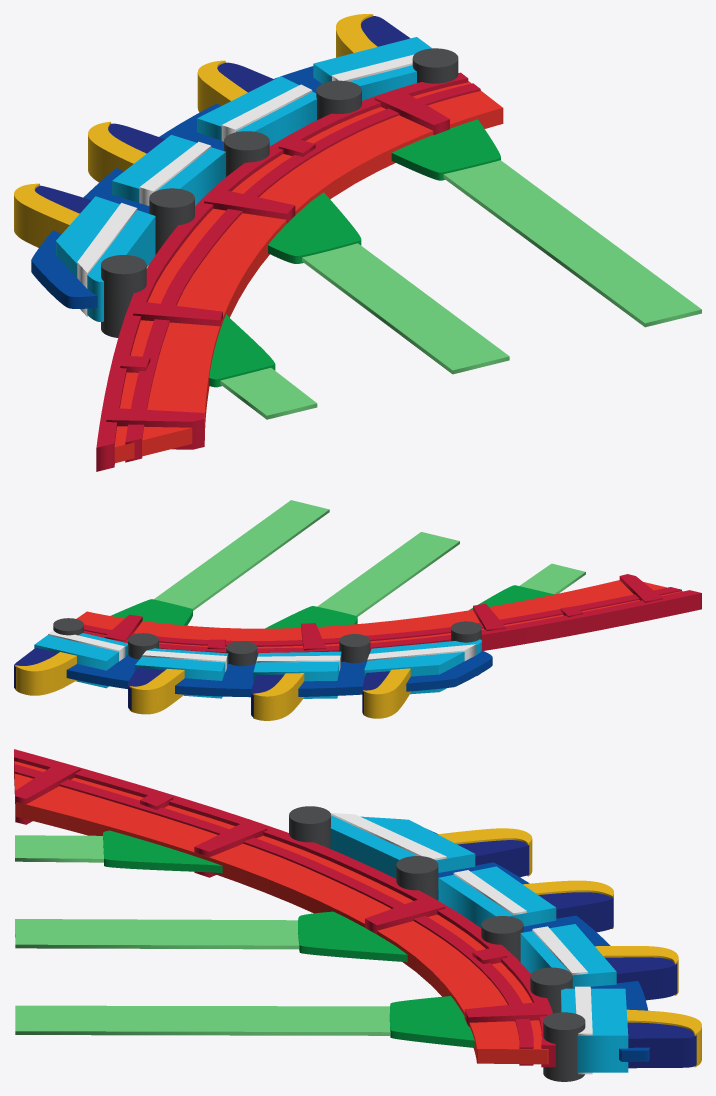
Rendered from emoji_u1f3a2.glb.
3 views of the same model, one above another, from view 1: azimuth 30°, elevation 25°; view 2: azimuth 150°, elevation 25°; view 3: azimuth 270°, elevation 25° (orthographic). The views are drawn at different scales.
Visible parts, largest first — view 1: emoji_u1f3a2; view 2: emoji_u1f3a2; view 3: emoji_u1f3a2.
Boxes of the visible parts, x1,y1,x2,y2 form: emoji_u1f3a2: (14,14,701,471); emoji_u1f3a2: (14,500,701,720); emoji_u1f3a2: (14,749,701,1081).
Size of the model in its own units: 0.0344 by 0.0032 by 0.0337.
